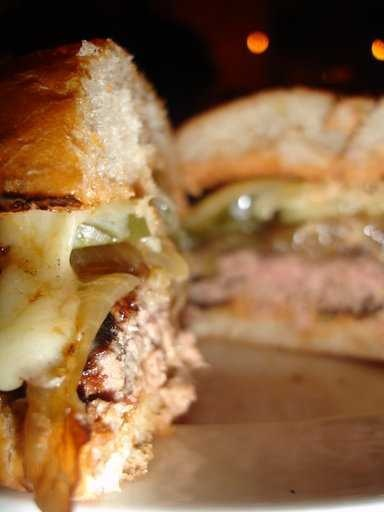hamburger: (1, 31, 221, 503)
